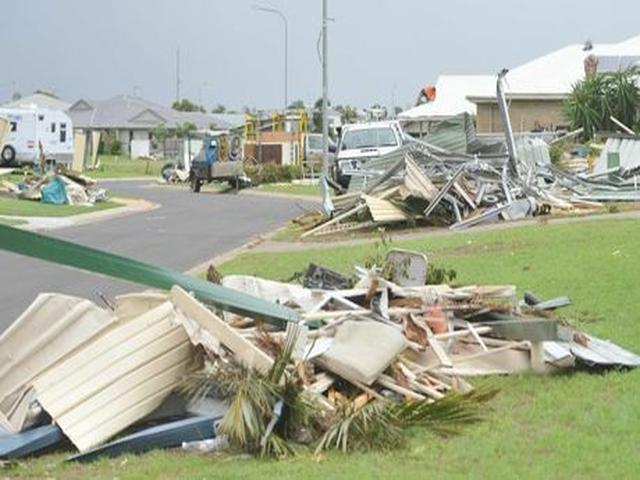garbage: (217, 269, 466, 430), (379, 157, 563, 210)
